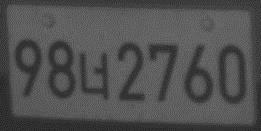0: (218, 43, 247, 104)
2: (116, 42, 147, 102)
6: (184, 42, 213, 103)
7: (147, 42, 178, 102)
8: (47, 40, 76, 98)
9: (14, 38, 41, 97)
너: (78, 51, 109, 102)
